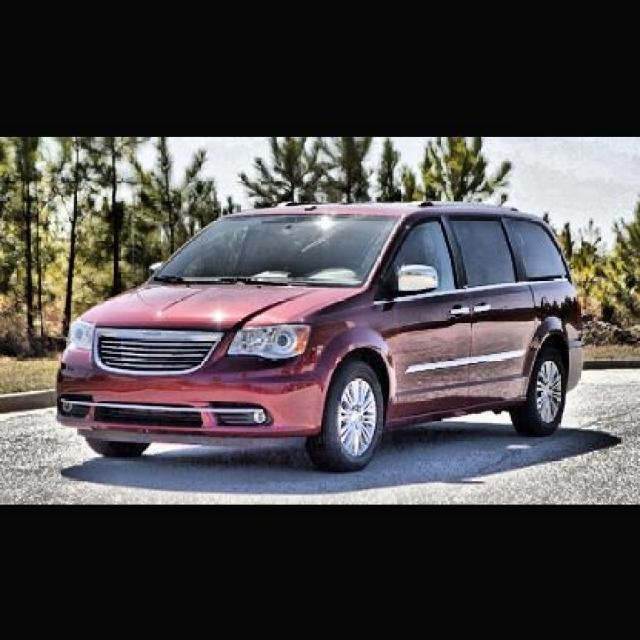maroon: (57, 205, 581, 468)
